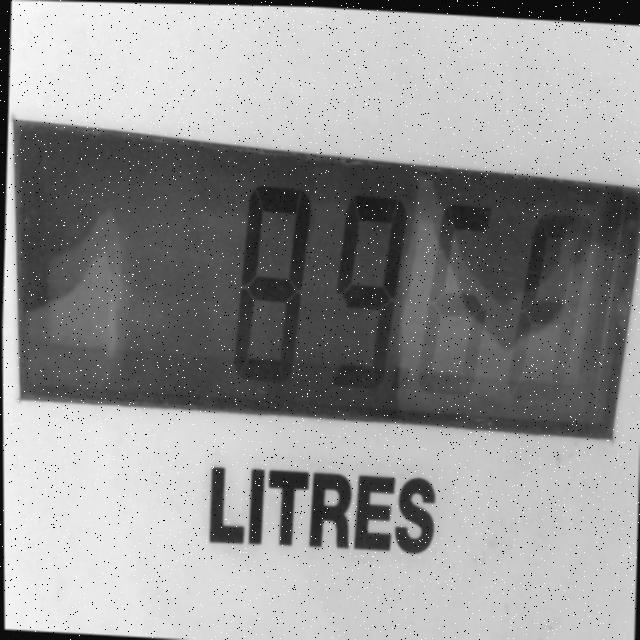.: (385, 348, 417, 398)
6: (408, 182, 499, 418)
8: (212, 166, 325, 390), (503, 205, 594, 409)
9: (316, 179, 412, 398)
